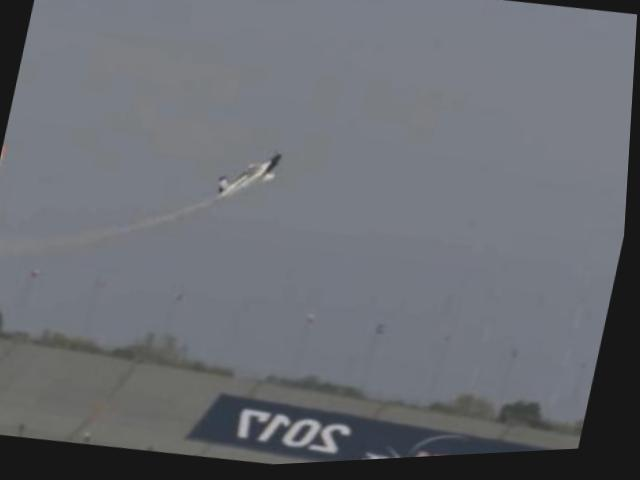uav: (212, 140, 297, 215)
